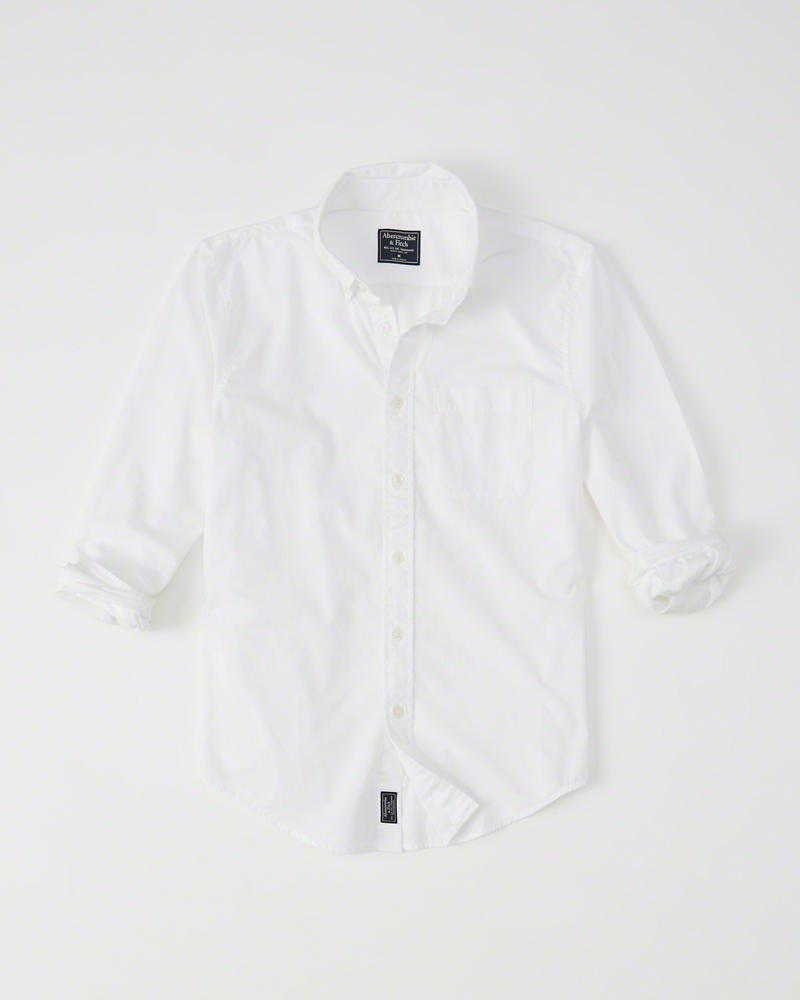teeshirt: (71, 159, 735, 877)
